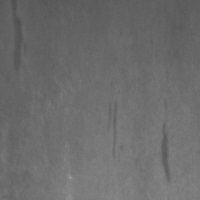inclusion: (7, 1, 28, 79), (154, 113, 175, 185), (103, 97, 124, 161)
